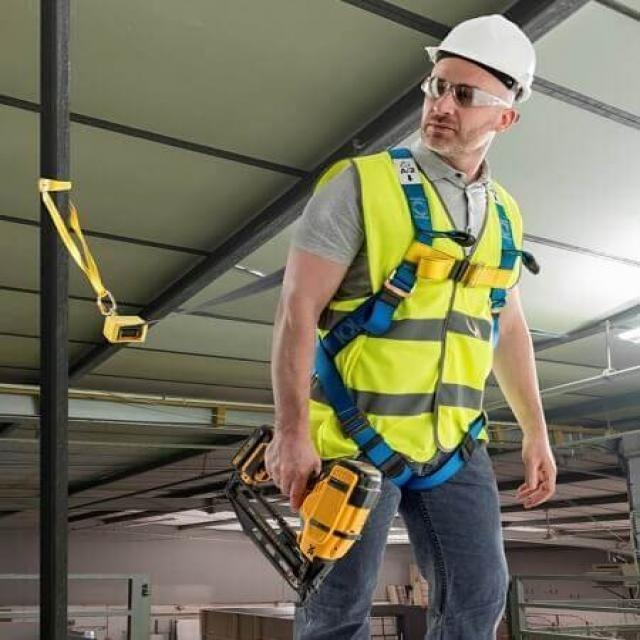Arnes_seguridad: (326, 148, 522, 480)
